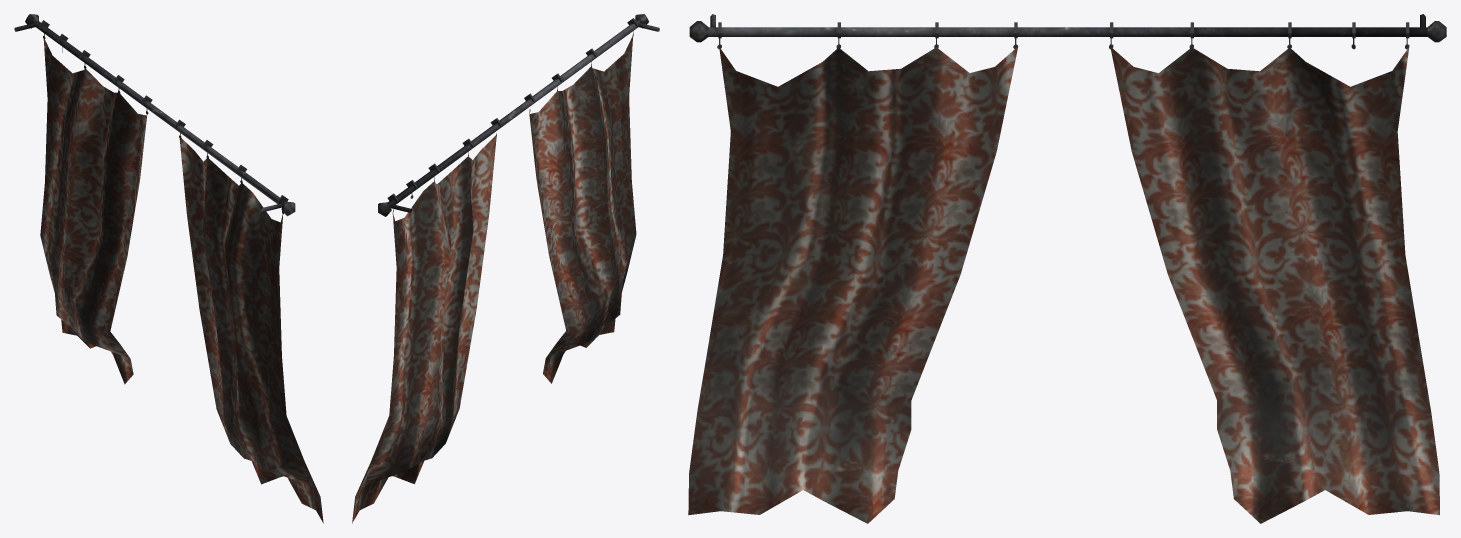
File: Double_ExpCurtainSet_T02.FBX
The picture shows the model from 3 angles, left to right: view 1: azimuth 30°, elevation 25°; view 2: azimuth 150°, elevation 25°; view 3: azimuth 270°, elevation 25°; orthographic projection. The views are drawn at different scales.
Parts seen in each view (by area): view 1: Double_ExpCurtainSet_T02; view 2: Double_ExpCurtainSet_T02; view 3: Double_ExpCurtainSet_T02.
Boxes of the visible parts, <box> form: Double_ExpCurtainSet_T02: <box>14,14,323,523</box>; Double_ExpCurtainSet_T02: <box>352,14,659,523</box>; Double_ExpCurtainSet_T02: <box>688,14,1446,523</box>.
Size of the model in its own units: 34.17 by 193 by 275.
